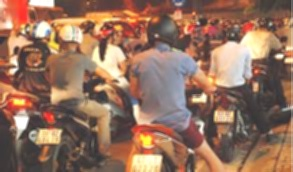Bien-so: (131, 152, 162, 171), (41, 121, 68, 137), (214, 117, 234, 130), (22, 106, 39, 121), (195, 98, 210, 108), (254, 92, 260, 103), (288, 71, 293, 78)
